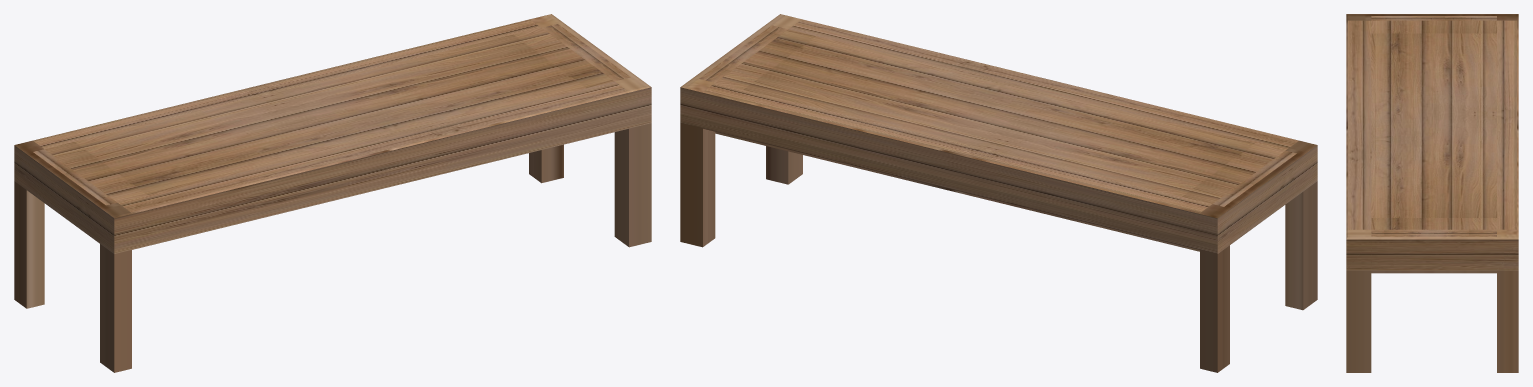
File: banquita.fbx
The picture shows the model from 3 angles, left to right: view 1: azimuth 30°, elevation 25°; view 2: azimuth 150°, elevation 25°; view 3: azimuth 270°, elevation 25°; orthographic projection. The views are drawn at different scales.
Visible parts, largest first — view 1: Cube; view 2: Cube; view 3: Cube.
Boxes of the visible parts, box(x1,y1,x2,y2) form: Cube: box(14, 14, 651, 372); Cube: box(680, 14, 1317, 372); Cube: box(1346, 14, 1518, 372).
Bounding box in the file's own units: 226 × 62.58 × 73.06.
Materials: 1 (1 with a texture image).
